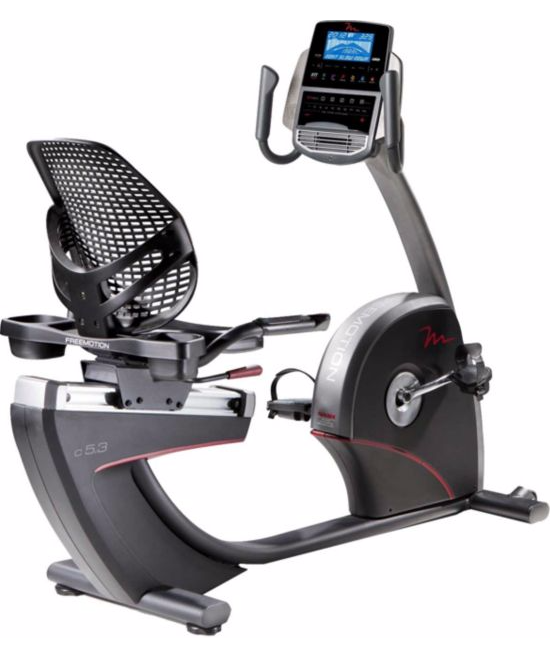gym_bike: (7, 19, 548, 636)
